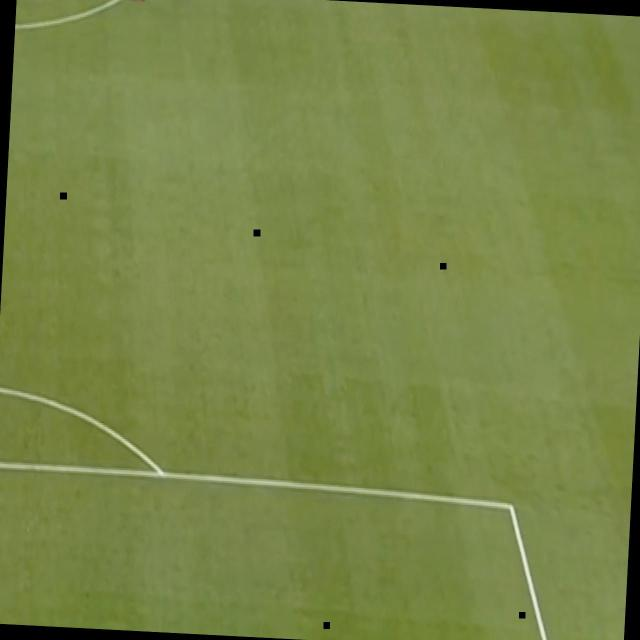player-white: (130, 0, 148, 3)
